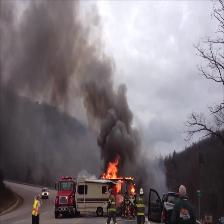fire: (101, 160, 122, 184)
smoke: (28, 0, 86, 78), (89, 82, 131, 146)
